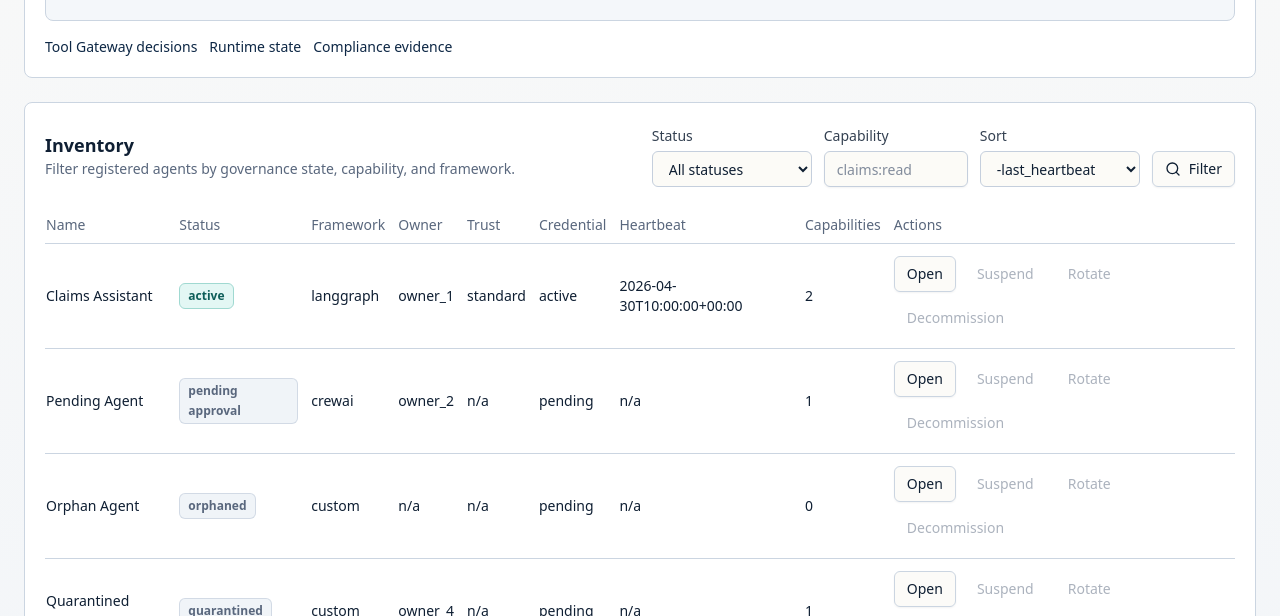
Test: AgentsPage › runs restricted lifecycle actions with a required reason
(page scrolled)
Expected: the text "Claims Assistant" is shown, [45, 244, 178, 348]
Click the button "Open" in the row of "Claims Assistant" at (925, 274), box [894, 256, 956, 292]
(page scrolled)
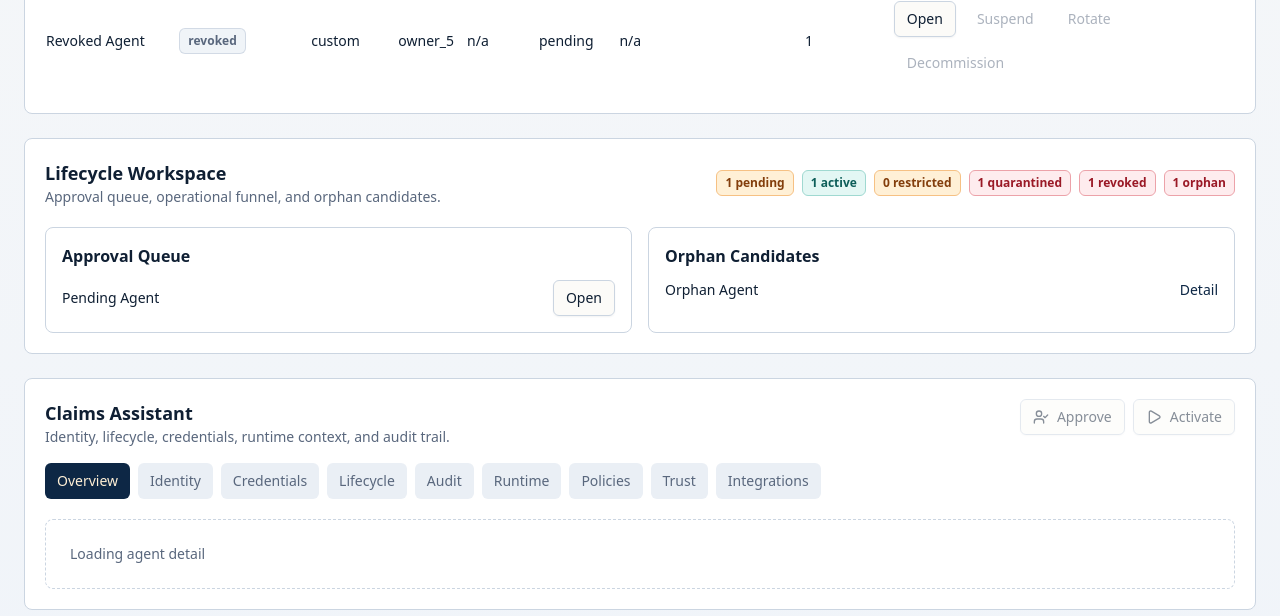
Click the tab "Lifecycle" at (367, 481), box [327, 463, 407, 499]
(page scrolled)
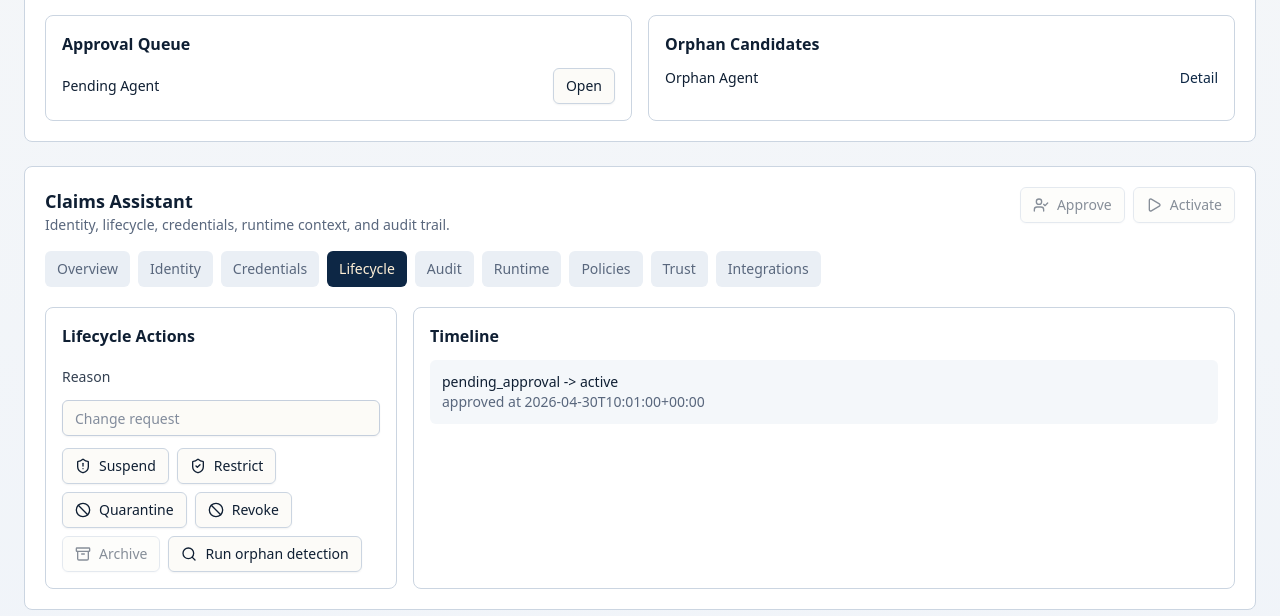
Expected: the element that starts with "Lifecycle Actions" is shown, [45, 307, 1235, 589]
Expected: the button "Restrict" is enabled, [177, 448, 276, 484]
Expected: the button "Quarantine" is enabled
Click the button "Quarantine" at (124, 510), box [62, 492, 187, 528]
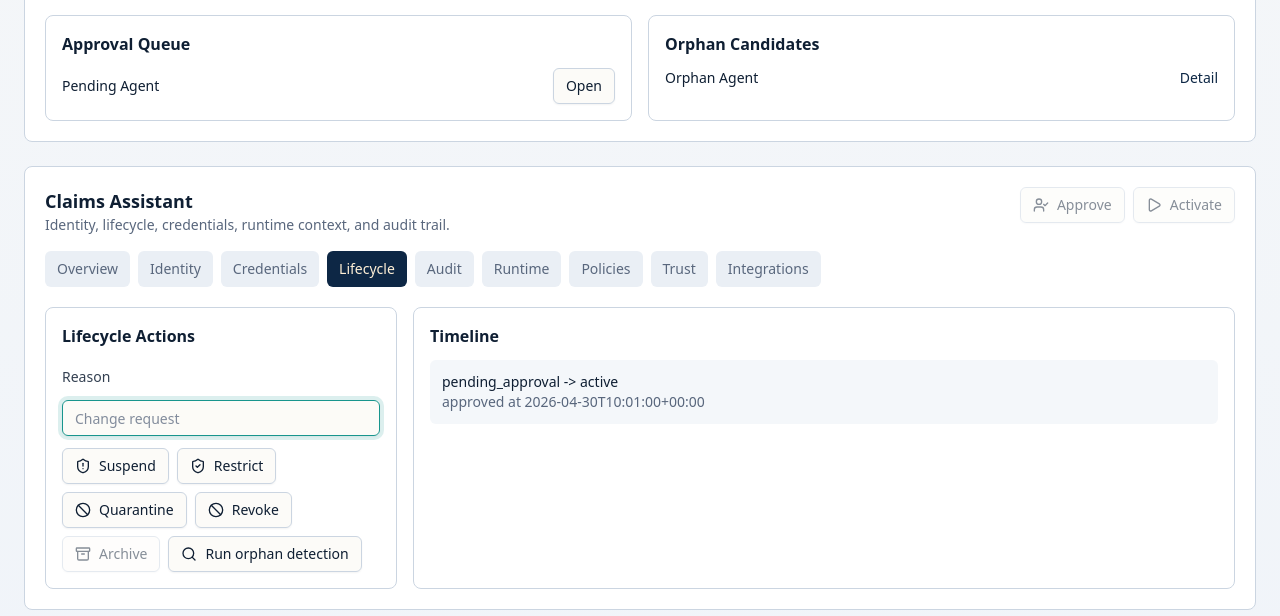
Type "incident response" into the field labelled "Reason" at (221, 418), box [62, 400, 380, 436]
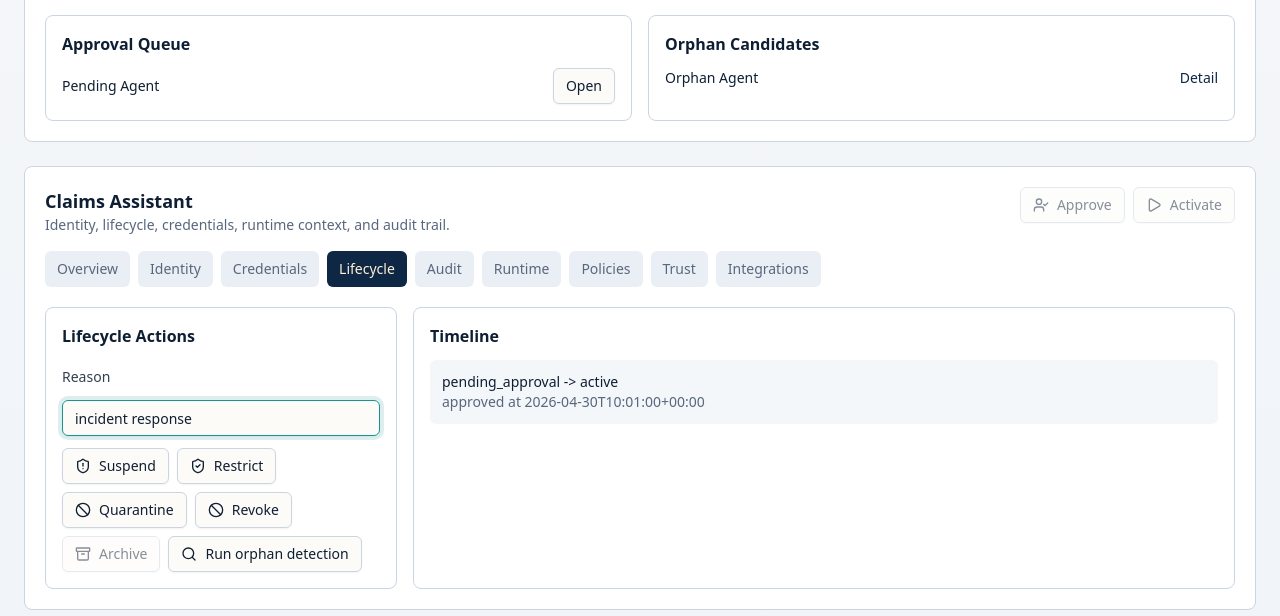
Click the button "Quarantine" at (124, 510), box [62, 492, 187, 528]
(page scrolled)
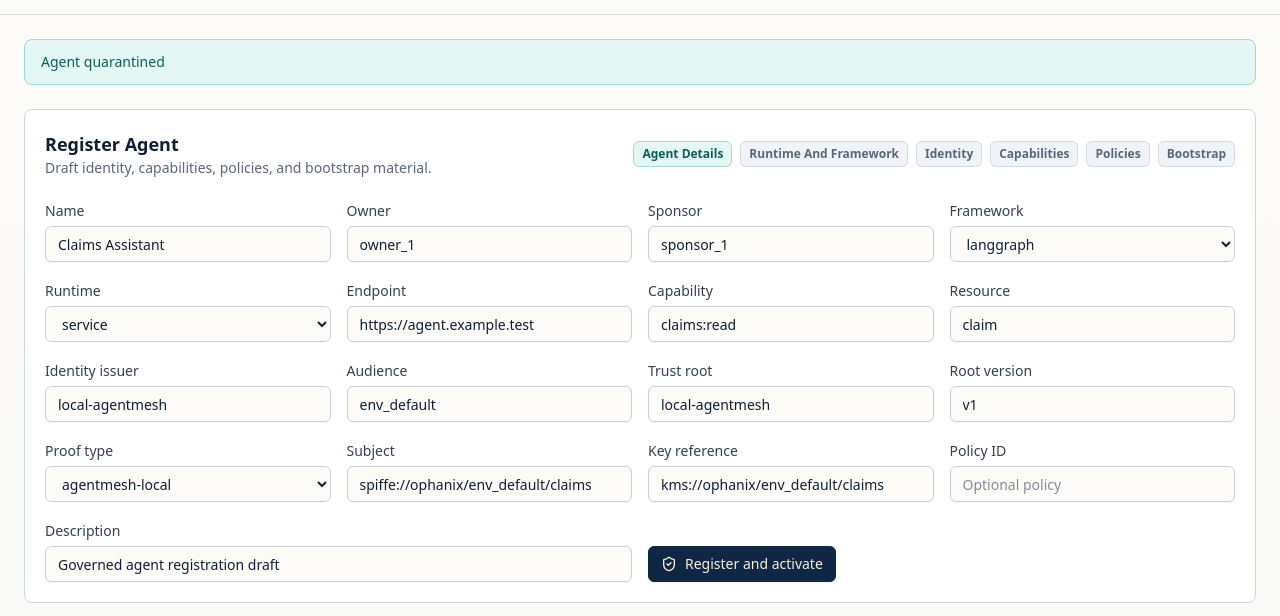
Expected: the text "Agent quarantined" is shown, [24, 39, 1256, 85]
